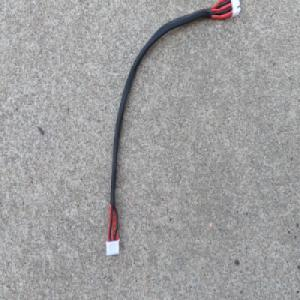Wire: (103, 0, 243, 258)
